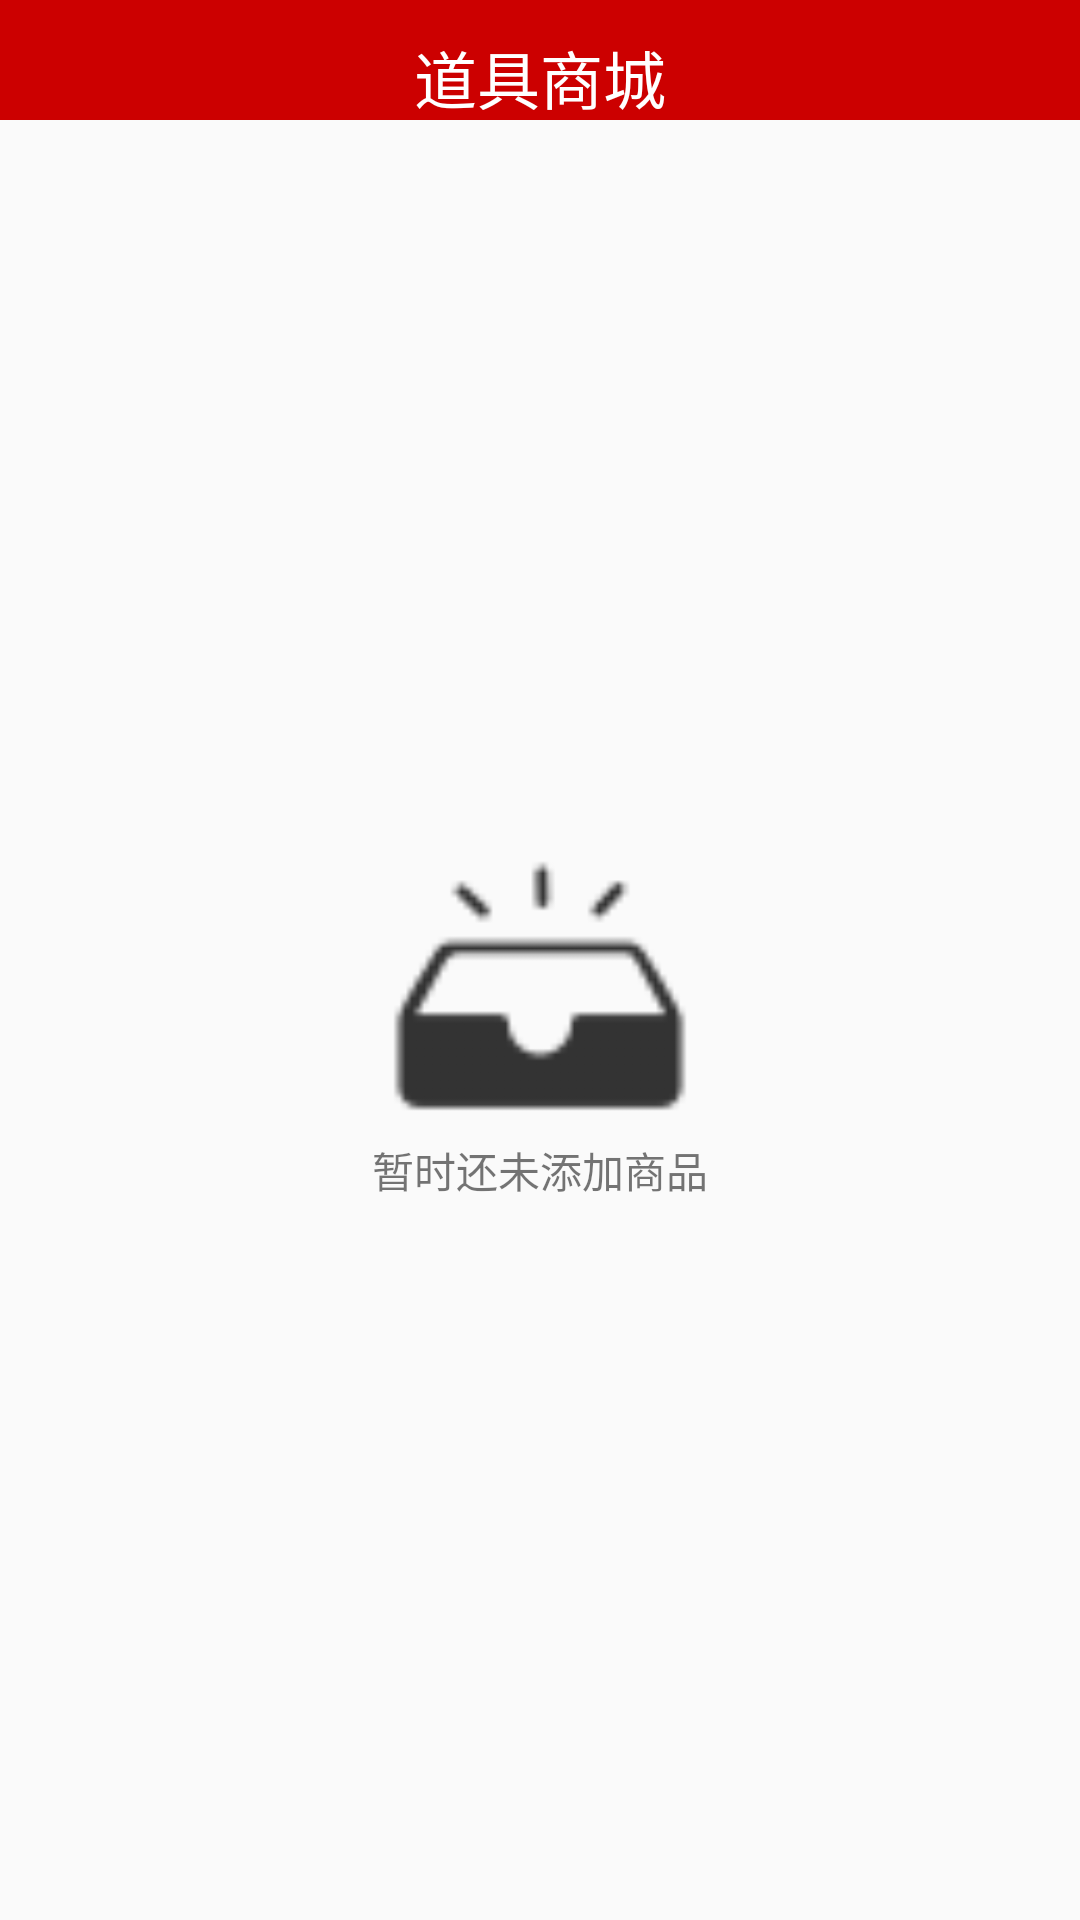

Point at icon controls on the screen. Image size 1080*1920, points as [x,y].
weitianjiachangci: [540,986]
